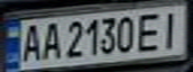0: (115, 12, 139, 54)
1: (81, 16, 100, 56)
2: (63, 17, 84, 60)
3: (97, 15, 118, 55)
A: (18, 21, 45, 63), (39, 19, 63, 61)
E: (136, 10, 166, 53)
I: (157, 8, 187, 50)
